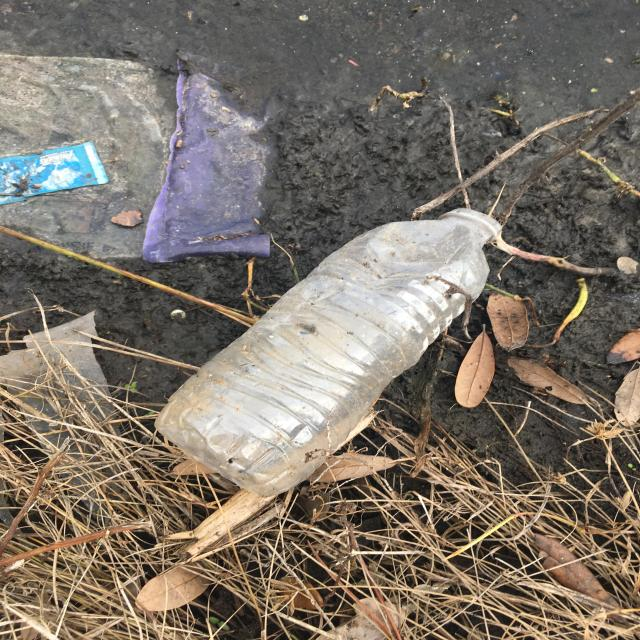litter: (154, 208, 502, 496), (141, 72, 284, 262), (3, 141, 108, 205)
